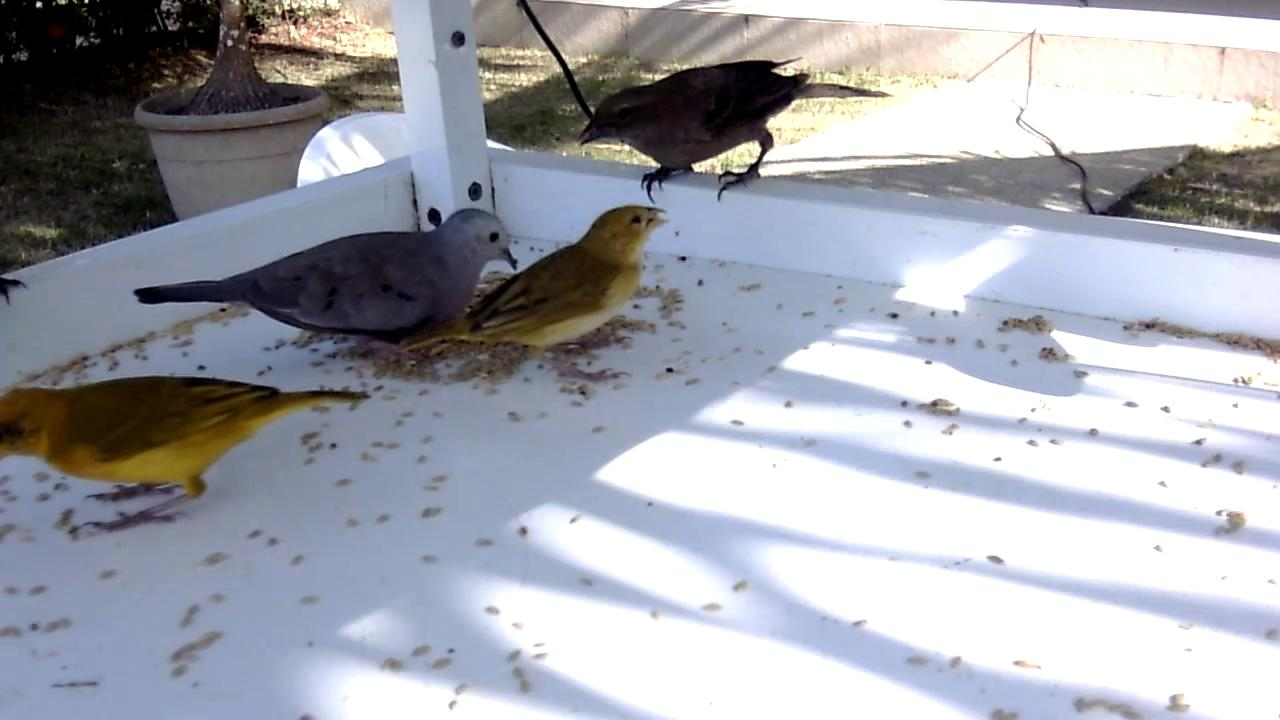canario_do_amazonas: (1, 372, 373, 536), (397, 203, 670, 386)
chupim: (575, 55, 898, 211)
rolinha: (130, 206, 521, 352)
